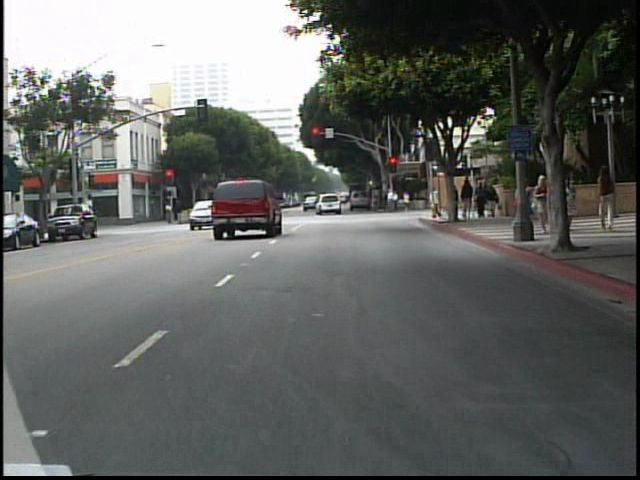person: (595, 165, 619, 233), (563, 174, 583, 236), (531, 173, 550, 238), (460, 177, 476, 223), (430, 187, 445, 220), (164, 200, 177, 229)
